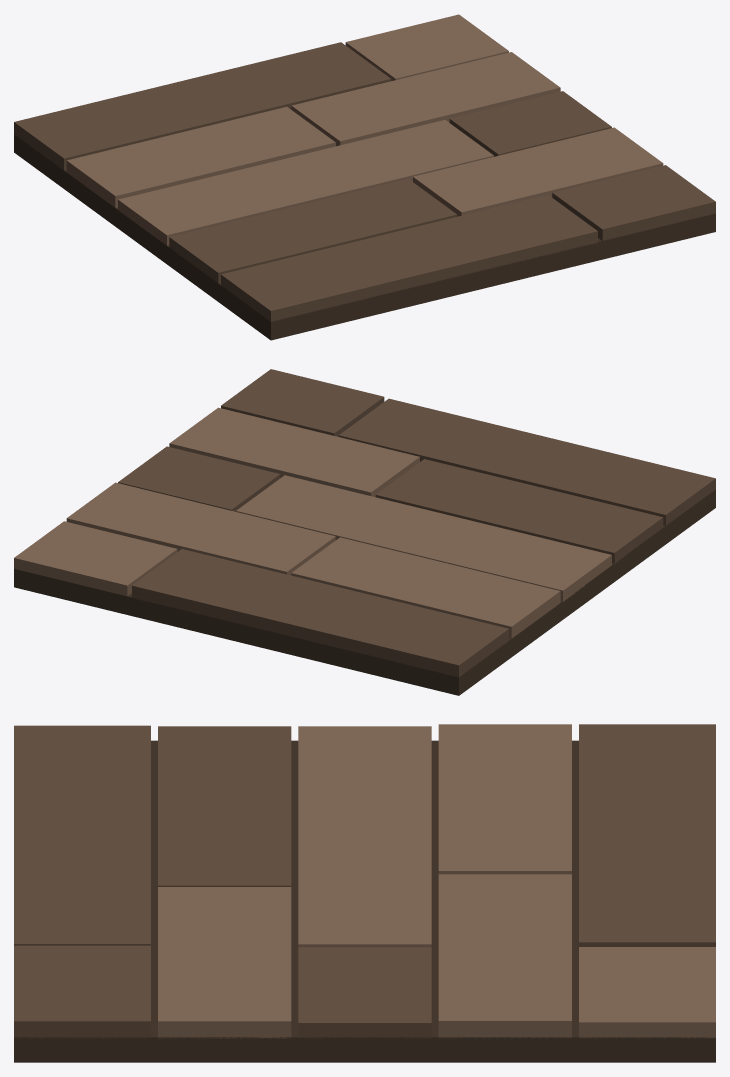
The model's file is dark_wood_lowpoly.glb.
3 views of the same model, one above another, from view 1: azimuth 30°, elevation 25°; view 2: azimuth 150°, elevation 25°; view 3: azimuth 270°, elevation 25° (orthographic). The views are drawn at different scales.
Parts seen in each view (by area): view 1: Dark_woodTile; view 2: Dark_woodTile; view 3: Dark_woodTile.
Boxes of the visible parts, left/top/right/bottom form: Dark_woodTile: left=14, top=14, right=715, bottom=340; Dark_woodTile: left=14, top=369, right=715, bottom=695; Dark_woodTile: left=14, top=724, right=715, bottom=1062.
Bounding box in the file's own units: 1 × 0.0657 × 1.
